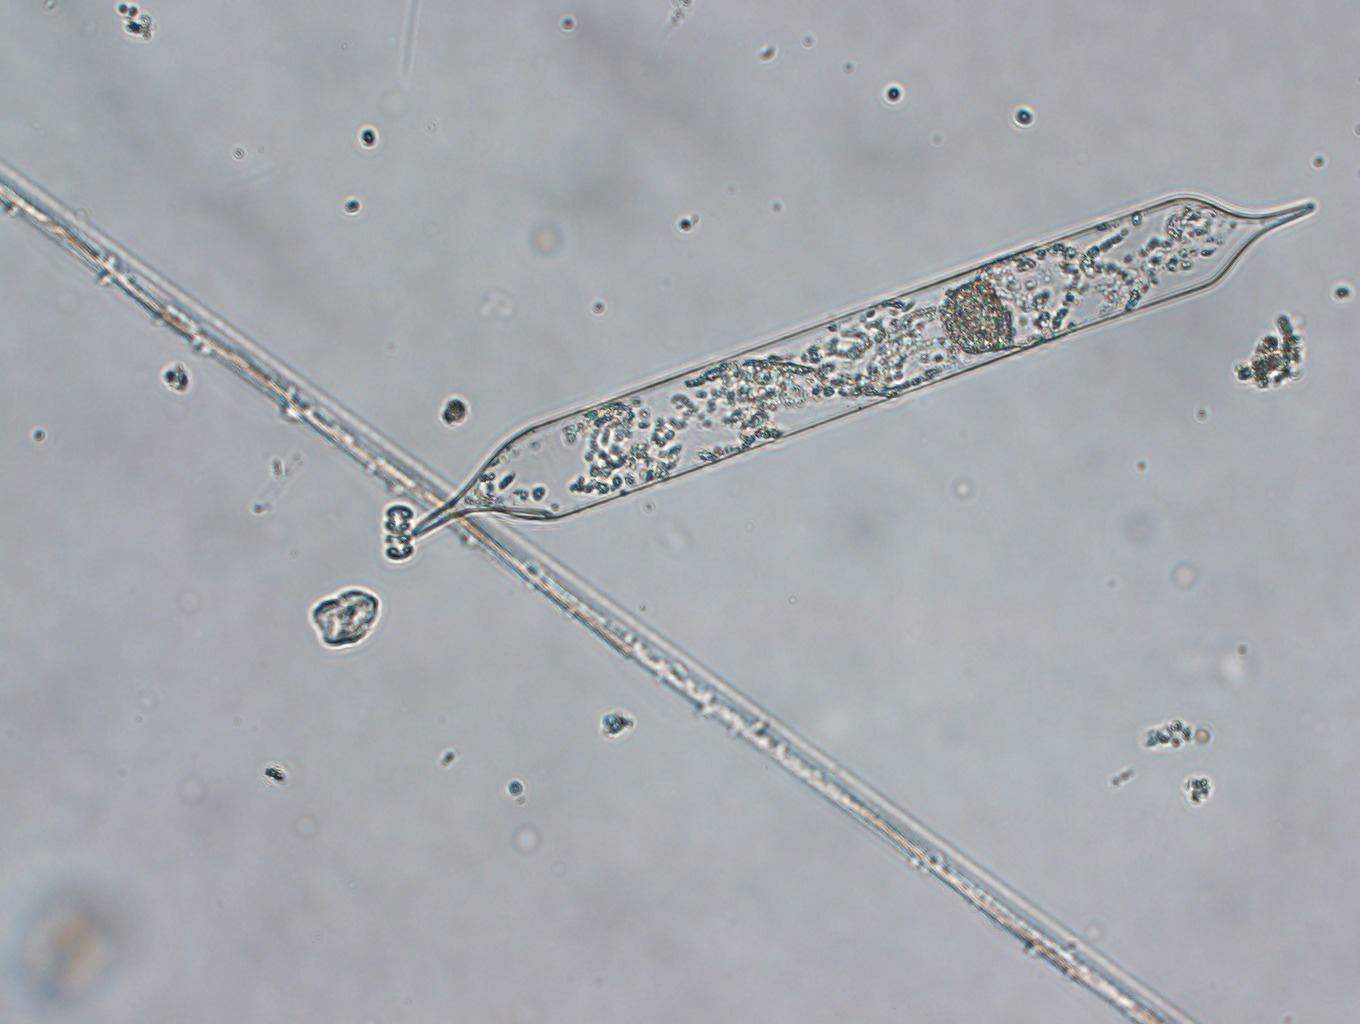rhizosolenia: (410, 194, 1321, 540)
skeletonema: (380, 499, 417, 563)
